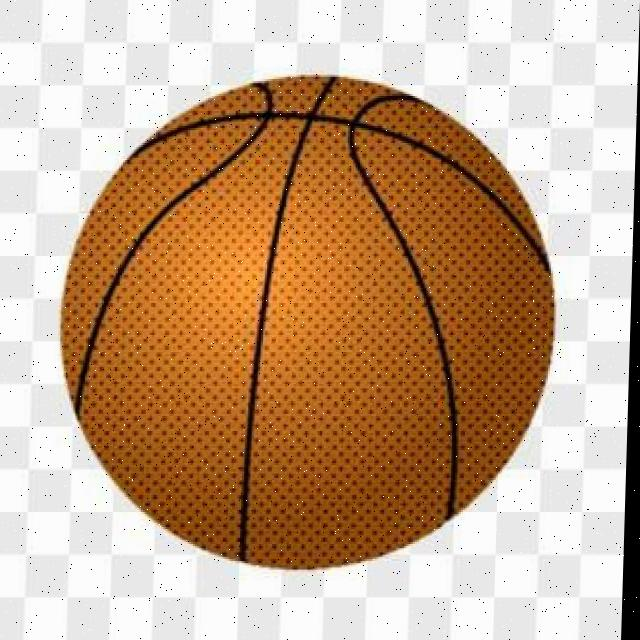Basketball: (54, 77, 562, 571)
